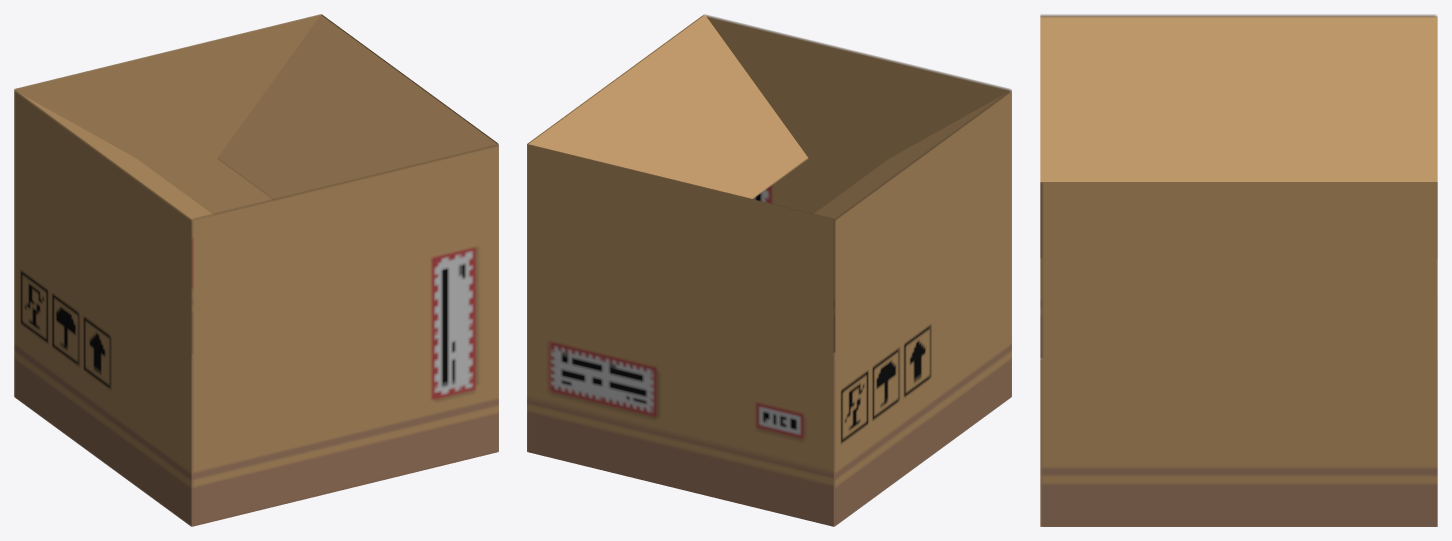
The model's file is cuboid7Opened.glb.
3 renders of one model, left to right at view 1: azimuth 30°, elevation 25°; view 2: azimuth 150°, elevation 25°; view 3: azimuth 270°, elevation 25°, orthographic. The views are drawn at different scales.
Parts seen in each view (by area): view 1: plane_5; view 2: plane_5; view 3: plane_5.
Part boxes in pixels (bbox=[...]): plane_5: bbox=[14, 14, 498, 526]; plane_5: bbox=[527, 14, 1011, 526]; plane_5: bbox=[1040, 14, 1437, 526].
Bounding box in the file's own units: 1.5 × 1.44 × 1.5.
Materials: 1 (1 with a texture image).
